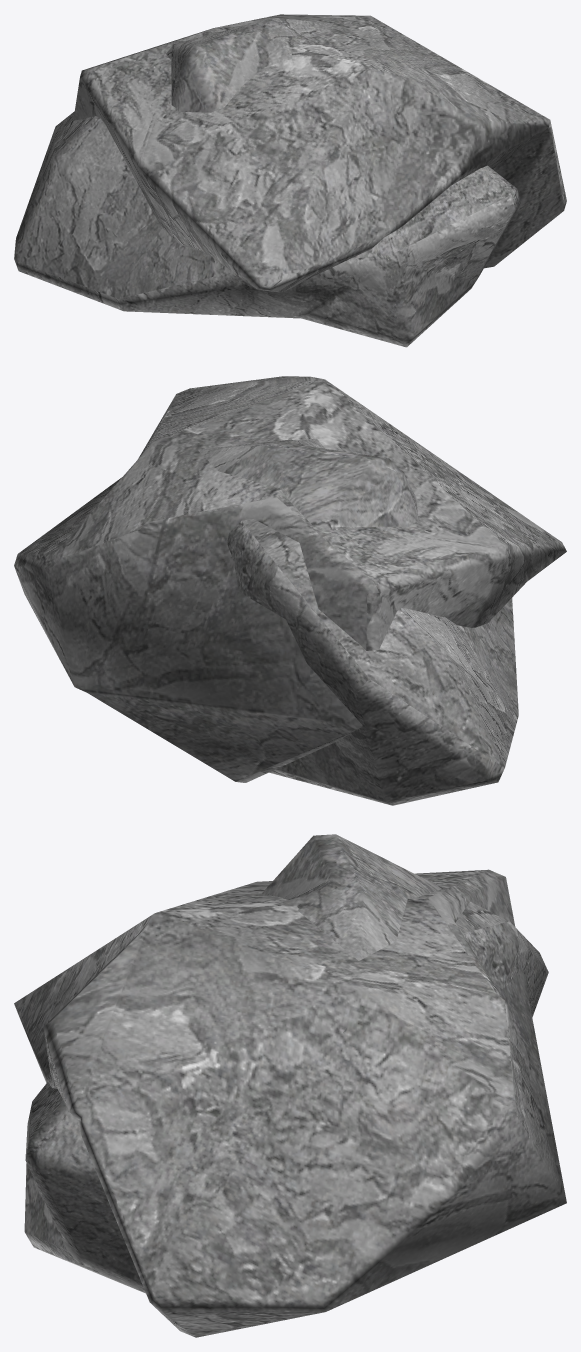
File: Rocks.fbx
3 renders of one model, top to bottom at view 1: azimuth 30°, elevation 25°; view 2: azimuth 150°, elevation 25°; view 3: azimuth 270°, elevation 25°, orthographic. The views are drawn at different scales.
Visible parts, largest first — view 1: pCube1, pCube2; view 2: pCube1, pCube2; view 3: pCube1, pCube2.
Part boxes in pixels (box(x1,y1,x2,y2)): pCube1: box(73, 14, 566, 292); pCube2: box(14, 17, 520, 347); pCube1: box(14, 376, 566, 782); pCube2: box(198, 438, 518, 805); pCube1: box(14, 869, 566, 1337); pCube2: box(24, 834, 548, 1293).
Size of the model in its own units: 1.45 by 0.8763 by 1.09.
